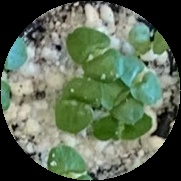Basil: (70, 29, 121, 82), (57, 73, 99, 133), (92, 111, 155, 144), (98, 78, 143, 122), (119, 59, 156, 104), (127, 22, 170, 53)
